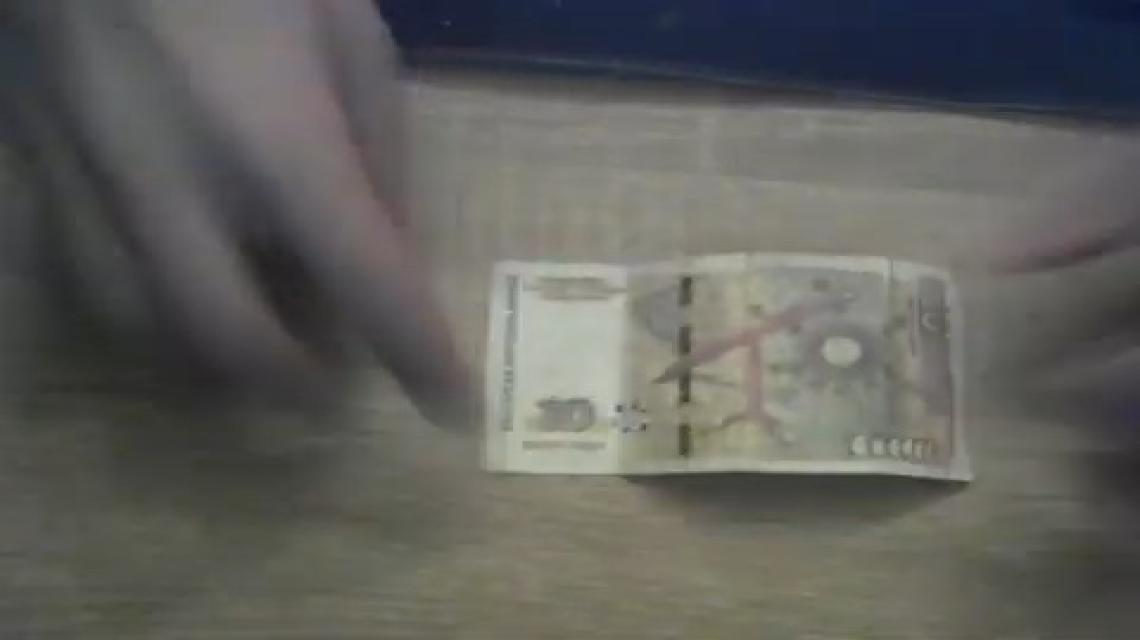10leva: (480, 254, 974, 485)
